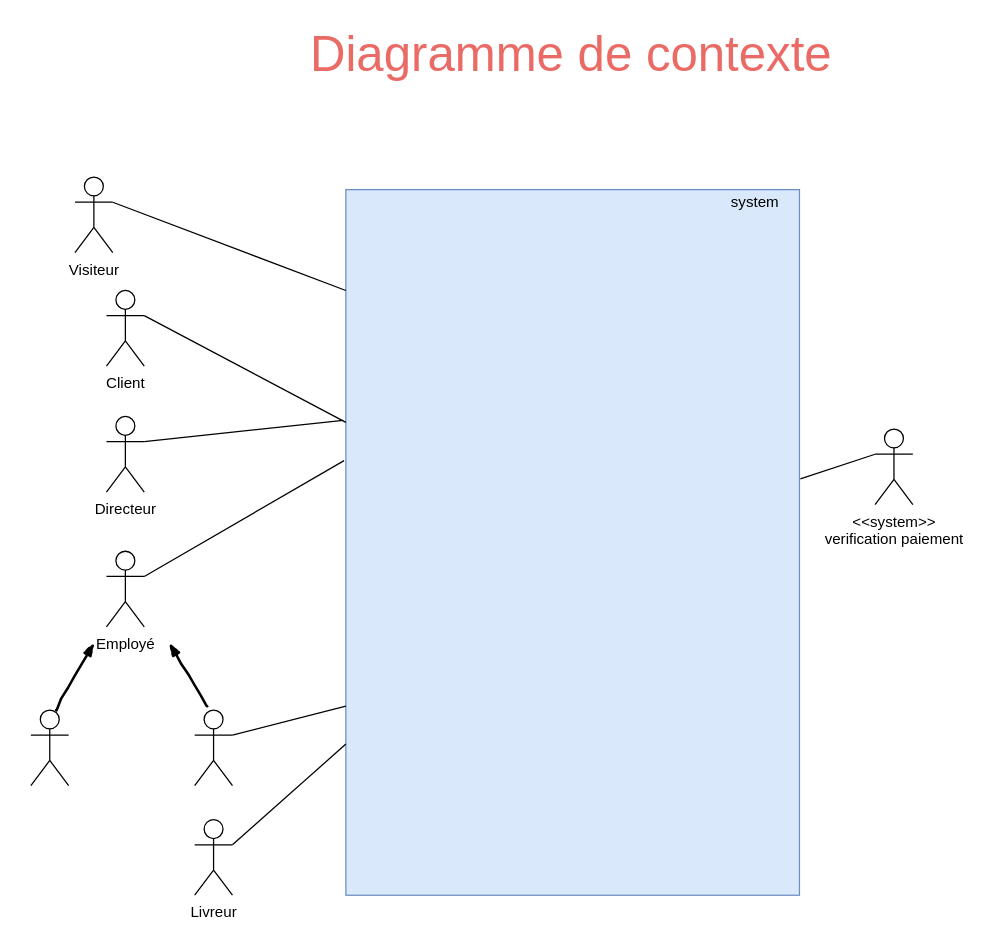
The diagram is 985 pixels wide and 942 high, and some of its shapes have lost their labels. Here are the shapes that lost their labels. From the top down, the centre of each, then its label:
the point at 49,747: cuisine
the point at 212,747: salle
